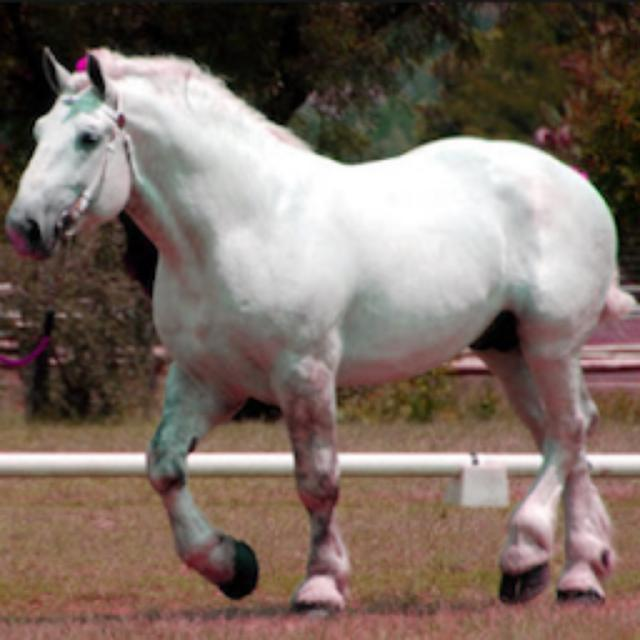Horse: (2, 40, 640, 620)
